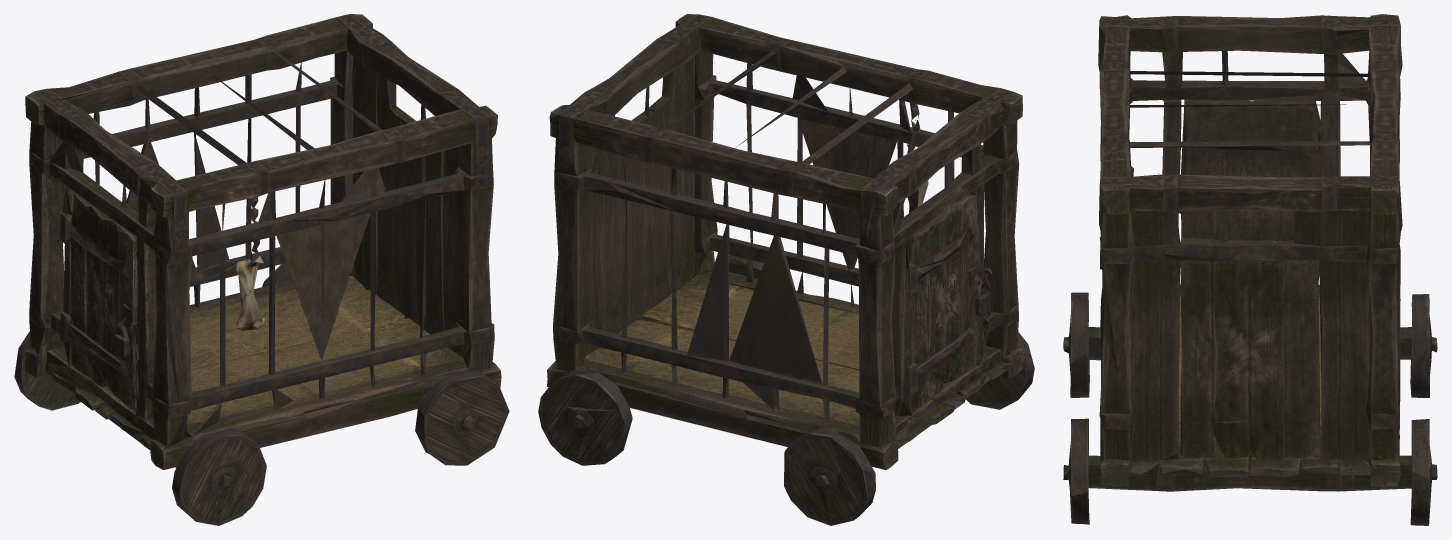
File: beast_cage.glb
3 renders of one model, left to right at view 1: azimuth 30°, elevation 25°; view 2: azimuth 150°, elevation 25°; view 3: azimuth 270°, elevation 25°, orthographic. The views are drawn at different scales.
Visible parts, largest first — view 1: beast_cage; view 2: beast_cage; view 3: beast_cage.
Boxes of the visible parts, x1,y1,x2,y2 form: beast_cage: [14, 14, 509, 525]; beast_cage: [538, 14, 1034, 525]; beast_cage: [1063, 14, 1437, 525].
Bounding box in the file's own units: 2.37 × 2.2 × 2.09.
Materials: 1 (1 with a texture image).
